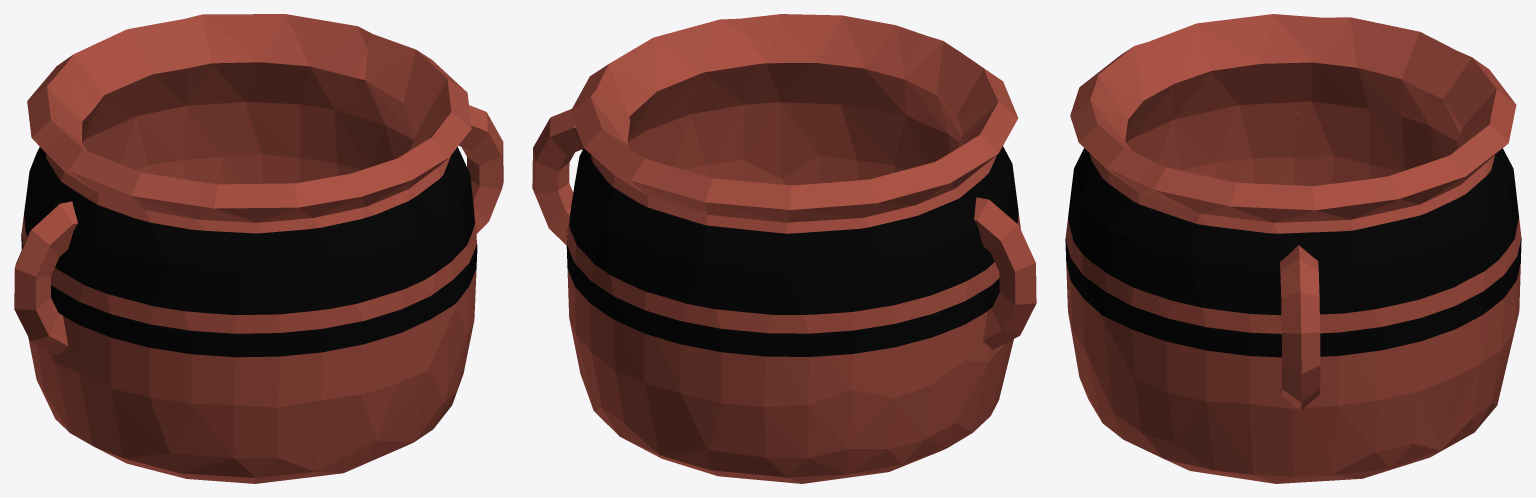
The model's file is Pottery 14_3b.fbx.
The picture shows the model from 3 angles, left to right: view 1: azimuth 30°, elevation 25°; view 2: azimuth 150°, elevation 25°; view 3: azimuth 270°, elevation 25°; orthographic projection.
Visible parts, largest first — view 1: Pottery 14_3b.007, Pottery 14_3b.001, Pottery 14_3b.003, Pottery 14_3b.006, Pottery 14_3b, Pottery 14_3b.002, Pottery 14_3b.004, Pottery 14_3b.005; view 2: Pottery 14_3b, Pottery 14_3b.004, Pottery 14_3b.005, Pottery 14_3b.001, Pottery 14_3b.002, Pottery 14_3b.003, Pottery 14_3b.006, Pottery 14_3b.007; view 3: Pottery 14_3b.002, Pottery 14_3b.003, Pottery 14_3b.006, Pottery 14_3b, Pottery 14_3b.001, Pottery 14_3b.005, Pottery 14_3b.004, Pottery 14_3b.007.
Boxes of the visible parts, bbox=[...] form: Pottery 14_3b.007: bbox=[130, 179, 360, 407]; Pottery 14_3b.001: bbox=[314, 121, 469, 407]; Pottery 14_3b.003: bbox=[183, 14, 372, 184]; Pottery 14_3b.006: bbox=[14, 131, 202, 388]; Pottery 14_3b: bbox=[28, 181, 470, 483]; Pottery 14_3b.002: bbox=[355, 34, 503, 337]; Pottery 14_3b.004: bbox=[48, 18, 198, 181]; Pottery 14_3b.005: bbox=[21, 64, 92, 248]; Pottery 14_3b: bbox=[569, 320, 1013, 483]; Pottery 14_3b.004: bbox=[632, 163, 830, 416]; Pottery 14_3b.005: bbox=[810, 153, 966, 398]; Pottery 14_3b.001: bbox=[741, 14, 925, 185]; Pottery 14_3b.002: bbox=[532, 18, 754, 245]; Pottery 14_3b.003: bbox=[566, 89, 672, 375]; Pottery 14_3b.006: bbox=[950, 76, 1036, 362]; Pottery 14_3b.007: bbox=[905, 35, 1006, 164]; Pottery 14_3b.002: bbox=[1131, 161, 1382, 436]; Pottery 14_3b.003: bbox=[1367, 117, 1517, 402]; Pottery 14_3b.006: bbox=[1148, 14, 1332, 186]; Pottery 14_3b: bbox=[1069, 291, 1516, 483]; Pottery 14_3b.001: bbox=[1065, 84, 1152, 401]; Pottery 14_3b.005: bbox=[1312, 17, 1455, 183]; Pottery 14_3b.004: bbox=[1419, 50, 1521, 321]; Pottery 14_3b.007: bbox=[1076, 42, 1180, 170].
Bounding box in the file's own units: 64.97 × 39.4 × 51.68.
